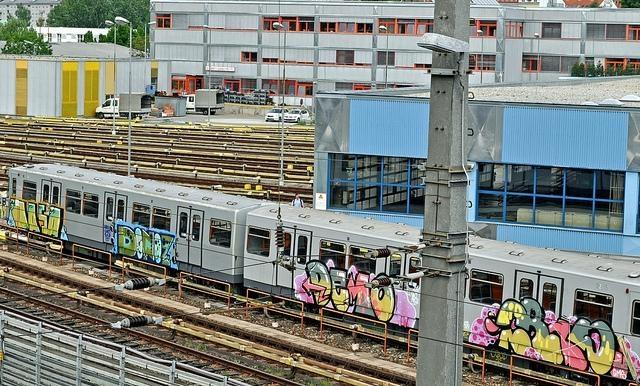car: (282, 107, 310, 124), (264, 108, 288, 122)
truck: (94, 92, 152, 120), (184, 87, 224, 116)
